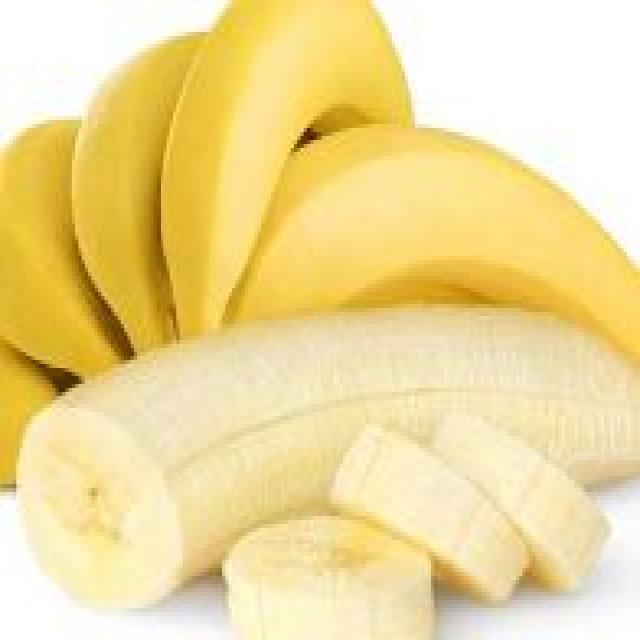banana: (6, 0, 632, 485), (19, 300, 636, 640)
